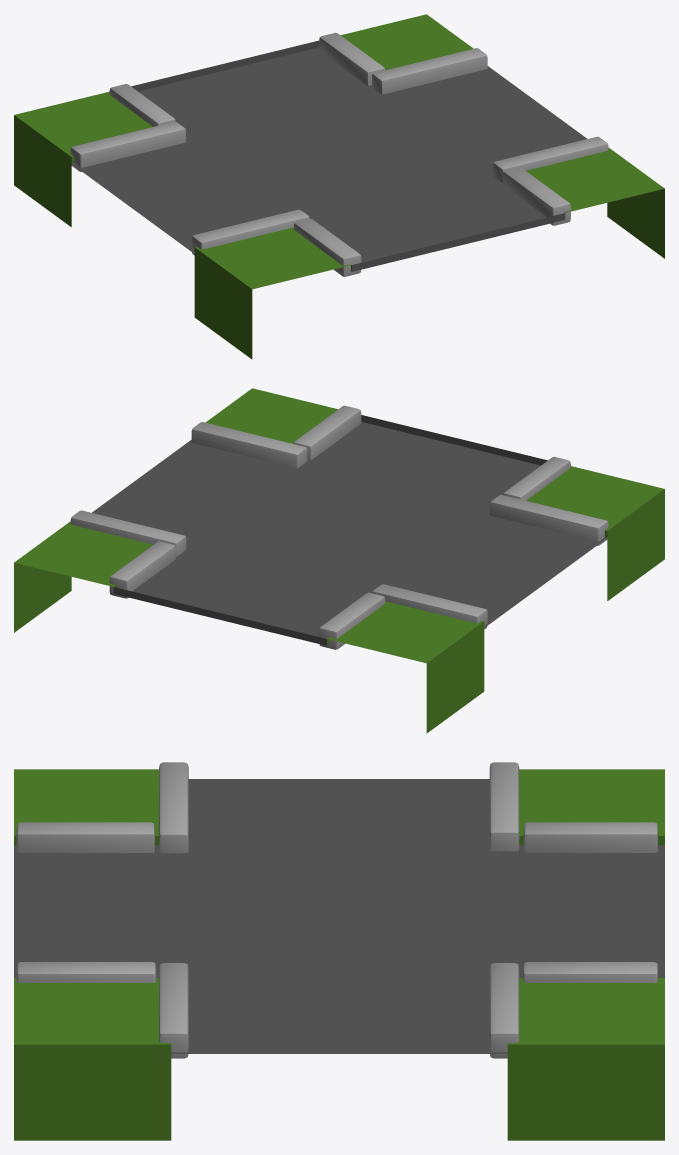
File: SM_tile_road_04.fbx
The picture shows the model from 3 angles, top to bottom: view 1: azimuth 30°, elevation 25°; view 2: azimuth 150°, elevation 25°; view 3: azimuth 270°, elevation 25°; orthographic projection. The views are drawn at different scales.
Visible parts, largest first — view 1: Box173; view 2: Box173; view 3: Box173.
Boxes of the visible parts, <box> form: Box173: <box>14,14,664,359</box>; Box173: <box>14,388,664,733</box>; Box173: <box>14,762,664,1140</box>.
Bounding box in the file's own units: 394 × 70.91 × 394.
